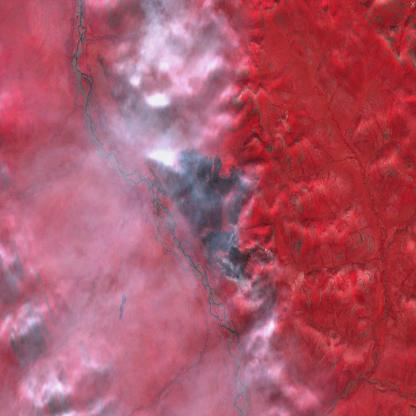fire: (199, 172, 270, 285)
